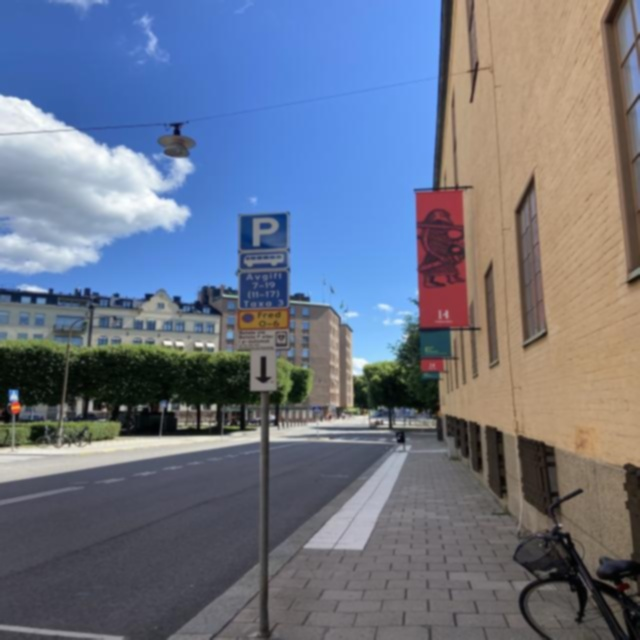P-skylt: (237, 211, 291, 254)
